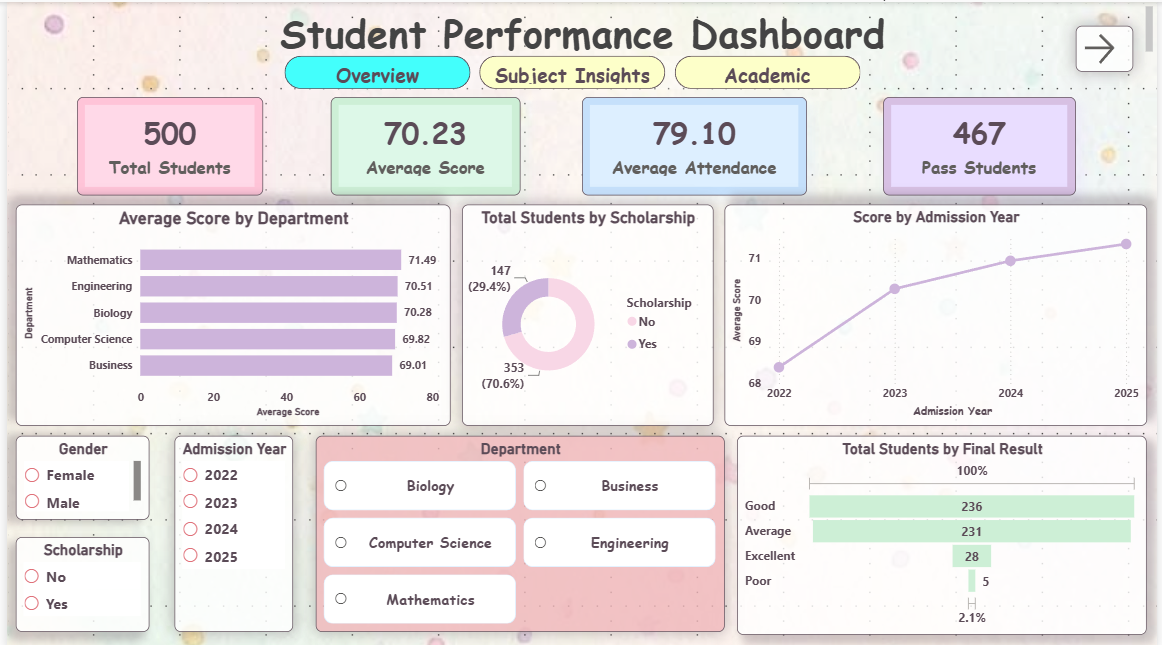

The dashboard page shown, as its layout file describes it:
{"tool":"powerbi","page":{"name":"Overview","canvas":[1280,720],"ordinal":0},"visuals":[{"type":"textbox","box":[9.7,0,1270.3,65.4],"z":0},{"type":"cardVisual","fields":{"Data":["Sheet1.Total Students"]},"box":[77.9,105.7,207.3,109.9],"z":1000},{"type":"cardVisual","fields":{"Data":["Sheet1.Average Score"]},"box":[360.3,105.7,211.5,109.9],"z":2000},{"type":"cardVisual","fields":{"Data":["Sheet1.Pass Students"]},"box":[975.3,105.7,214.3,109.9],"z":3000},{"type":"cardVisual","fields":{"Data":["Sheet1.Average Attendance"]},"box":[640,105.7,250.4,109.9],"z":4000},{"type":"clusteredBarChart","title":"Average  Score by Department","fields":{"Category":["Sheet1.Department"],"Y":["Avg(Sheet1.Average  Score)"]},"box":[9.7,225.4,484.2,246.3],"z":5000},{"type":"donutChart","fields":{"Category":["Sheet1.Scholarship"],"Y":["Sheet1.Total Students"]},"box":[506.4,225.4,279.7,246.3],"z":6000},{"type":"lineChart","title":"Score by Admission Year","fields":{"Category":["Sheet1.Admission Year"],"Y":["Avg(Sheet1.Average  Score)"]},"box":[798.6,225.4,470.3,246.3],"z":7000},{"type":"funnel","fields":{"Y":["Sheet1.Total Students"],"Category":["Sheet1.Final Result"]},"box":[812.5,482.8,456.3,221.2],"z":8000},{"type":"advancedSlicerVisual","fields":{"Values":["Sheet1.Department"]},"box":[343.7,482.8,455,218.4],"z":9000},{"type":"listSlicer","fields":{"Values":["Sheet1.Gender"]},"box":[9.7,482.8,148.9,93.2],"z":10000},{"type":"listSlicer","fields":{"Values":["Sheet1.Admission Year"]},"box":[186.4,482.8,132.2,218.4],"z":11000},{"type":"listSlicer","fields":{"Values":["Sheet1.Scholarship"]},"box":[9.7,595.5,148.9,105.7],"z":12000},{"type":"actionButton","box":[1189.6,26.4,64,51.5],"z":13000},{"type":"pageNavigator","box":[308.9,59.8,641.4,37.6],"z":14000}]}

Visuals, with their boxes in screenshot pixels (x1, y1, x2, y2), scaled from the page's 1280x720 canvas onto the 1162x645 screenshot:
textbox: detection(9, 0, 1161, 59)
cardVisual - Sheet1.Total Students: detection(71, 95, 259, 193)
cardVisual - Sheet1.Average Score: detection(327, 95, 519, 193)
cardVisual - Sheet1.Pass Students: detection(885, 95, 1080, 193)
cardVisual - Sheet1.Average Attendance: detection(581, 95, 808, 193)
"Average  Score by Department" clusteredBarChart: detection(9, 202, 448, 423)
donutChart - Sheet1.Scholarship x Sheet1.Total Students: detection(460, 202, 714, 423)
"Score by Admission Year" lineChart: detection(725, 202, 1152, 423)
funnel - Sheet1.Total Students x Sheet1.Final Result: detection(738, 433, 1152, 631)
advancedSlicerVisual - Sheet1.Department: detection(312, 433, 725, 628)
listSlicer - Sheet1.Gender: detection(9, 433, 144, 516)
listSlicer - Sheet1.Admission Year: detection(169, 433, 289, 628)
listSlicer - Sheet1.Scholarship: detection(9, 533, 144, 628)
actionButton: detection(1080, 24, 1138, 70)
pageNavigator: detection(280, 54, 863, 87)
